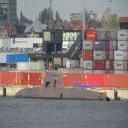submarine: (15, 74, 122, 100)
